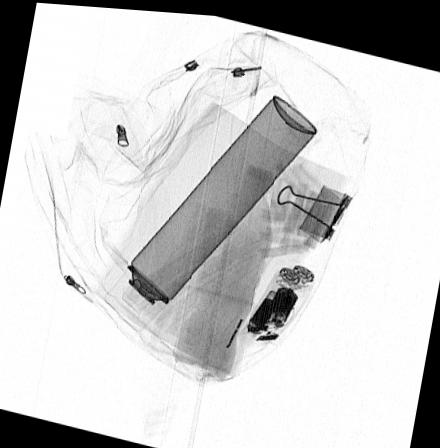Sprayer: (101, 92, 316, 332)
